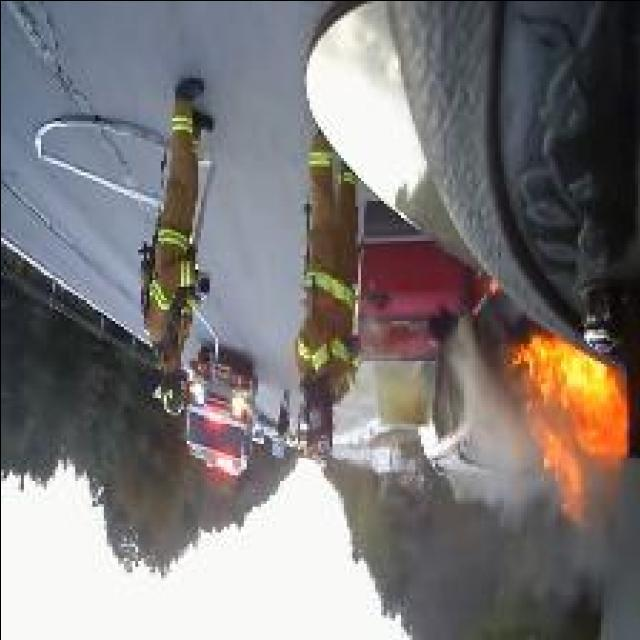Fire: (504, 332, 630, 528)
